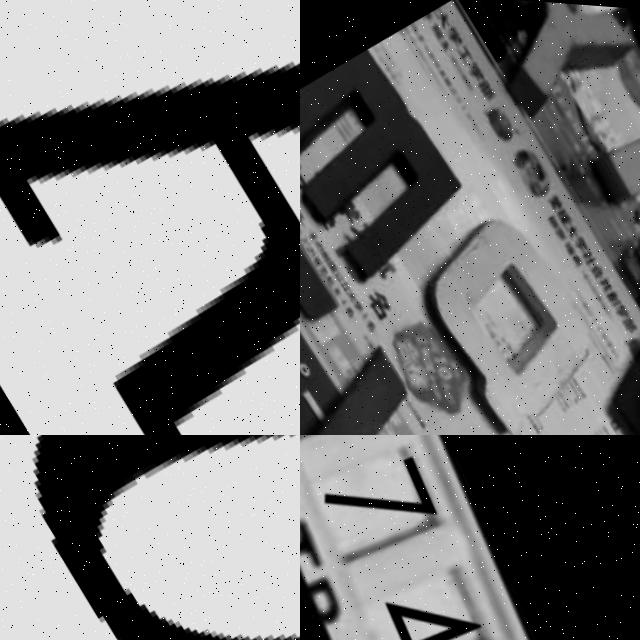4: (345, 532, 510, 640)
7: (300, 435, 461, 571)
E: (300, 137, 345, 383)
M: (300, 34, 480, 276)
O: (36, 435, 300, 640)
Q: (398, 195, 631, 435)
R: (0, 0, 300, 435), (581, 74, 640, 302)
V: (300, 338, 485, 435)
Y: (456, 0, 640, 120)
